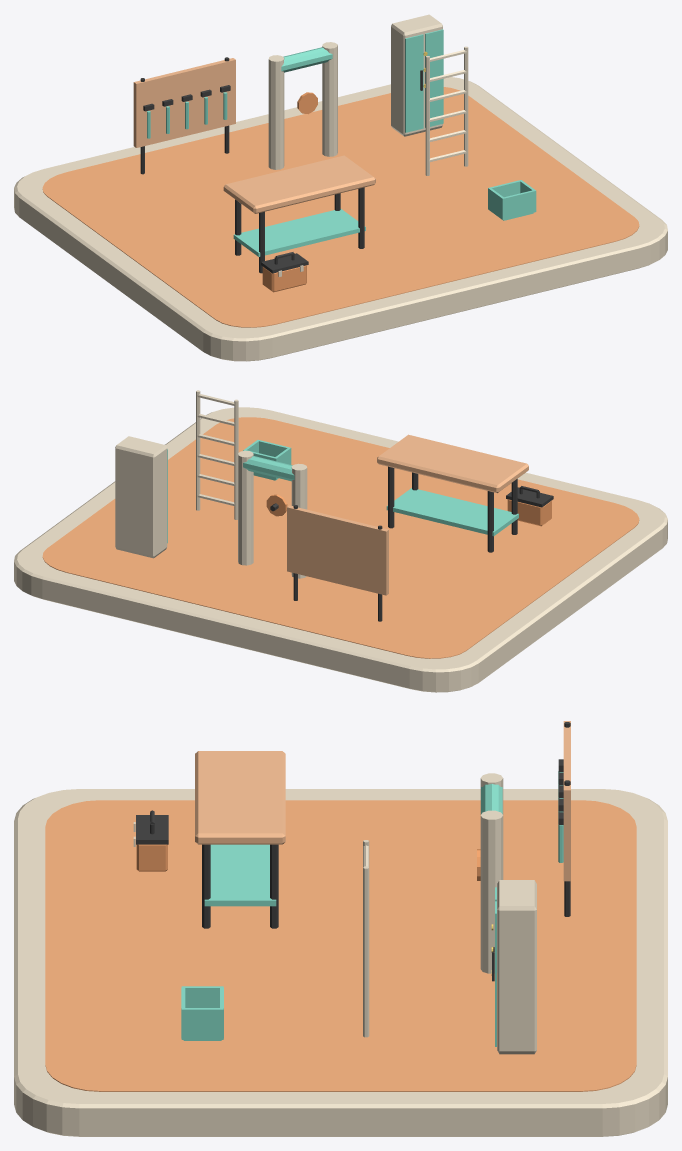
3 renders of one model, top to bottom at view 1: azimuth 30°, elevation 25°; view 2: azimuth 150°, elevation 25°; view 3: azimuth 270°, elevation 25°, orthographic. The views are drawn at different scales.
Parts seen in each view (by area): view 1: COM-02 Floor Surface, COM-01 Rounded Base Direct, Peg board, Worktop, Lower shelf, Equipment case, Pipe, Door, Pipe.001, Door.001, Box, Cross pipe (+4 smaller); view 2: COM-02 Floor Surface, COM-01 Rounded Base Direct, Peg board, Equipment case, Worktop, Lower shelf, Pipe.001, Cross pipe, Pipe, Box, Rail.001, Rail (+1 smaller); view 3: COM-02 Floor Surface, COM-01 Rounded Base Direct, Worktop, Equipment case, Lower shelf, Pipe.001, Bin side.001, Peg board, Rail.001, Lid, Box, Bin side (+2 smaller).
Part boxes in pixels (bbox=[...]): COM-02 Floor Surface: bbox=[42, 87, 639, 327]; COM-01 Rounded Base Direct: bbox=[14, 77, 667, 361]; Peg board: bbox=[133, 58, 235, 147]; Worktop: bbox=[223, 155, 375, 213]; Lower shelf: bbox=[233, 209, 365, 256]; Equipment case: bbox=[391, 14, 442, 136]; Pipe: bbox=[268, 55, 284, 169]; Door: bbox=[405, 34, 423, 132]; Pipe.001: bbox=[322, 42, 337, 156]; Door.001: bbox=[425, 29, 443, 127]; Box: bbox=[262, 265, 306, 292]; Cross pipe: bbox=[281, 47, 332, 72]; COM-02 Floor Surface: bbox=[42, 417, 639, 658]; COM-01 Rounded Base Direct: bbox=[14, 407, 667, 692]; Peg board: bbox=[287, 505, 388, 595]; Equipment case: bbox=[115, 436, 167, 558]; Worktop: bbox=[377, 434, 528, 493]; Lower shelf: bbox=[386, 488, 518, 536]; Pipe.001: bbox=[238, 450, 253, 565]; Cross pipe: bbox=[243, 456, 294, 481]; Pipe: bbox=[291, 463, 307, 578]; Box: bbox=[507, 499, 551, 526]; Rail.001: bbox=[196, 390, 200, 510]; Rail: bbox=[234, 399, 238, 519]; COM-02 Floor Surface: bbox=[45, 800, 636, 1091]; COM-01 Rounded Base Direct: bbox=[14, 789, 667, 1136]; Worktop: bbox=[195, 751, 285, 844]; Equipment case: bbox=[497, 880, 536, 1054]; Lower shelf: bbox=[204, 844, 276, 906]; Pipe.001: bbox=[480, 810, 503, 973]; Bin side.001: bbox=[181, 1008, 223, 1039]; Peg board: bbox=[563, 721, 570, 881]; Rail.001: bbox=[363, 866, 369, 1037]; Lid: bbox=[136, 815, 168, 844]; Box: bbox=[136, 844, 167, 871]; Bin side: bbox=[181, 986, 223, 1007].
Size of the model in its own units: 6 by 1.8 by 5.2.
Materials: 1 (1 with a texture image).
